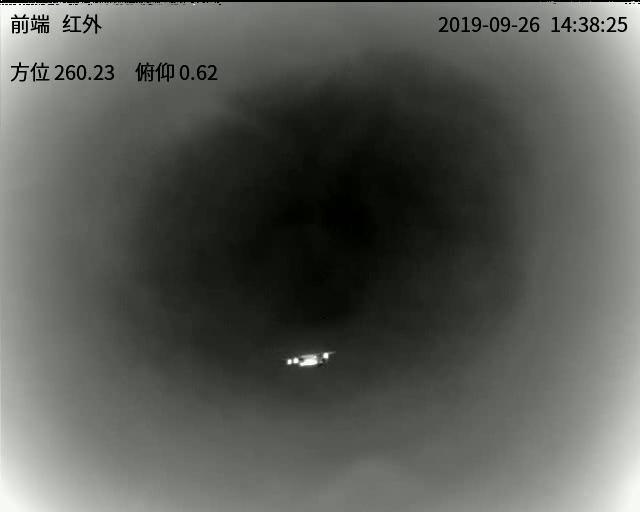DRONE: (283, 348, 334, 369)
